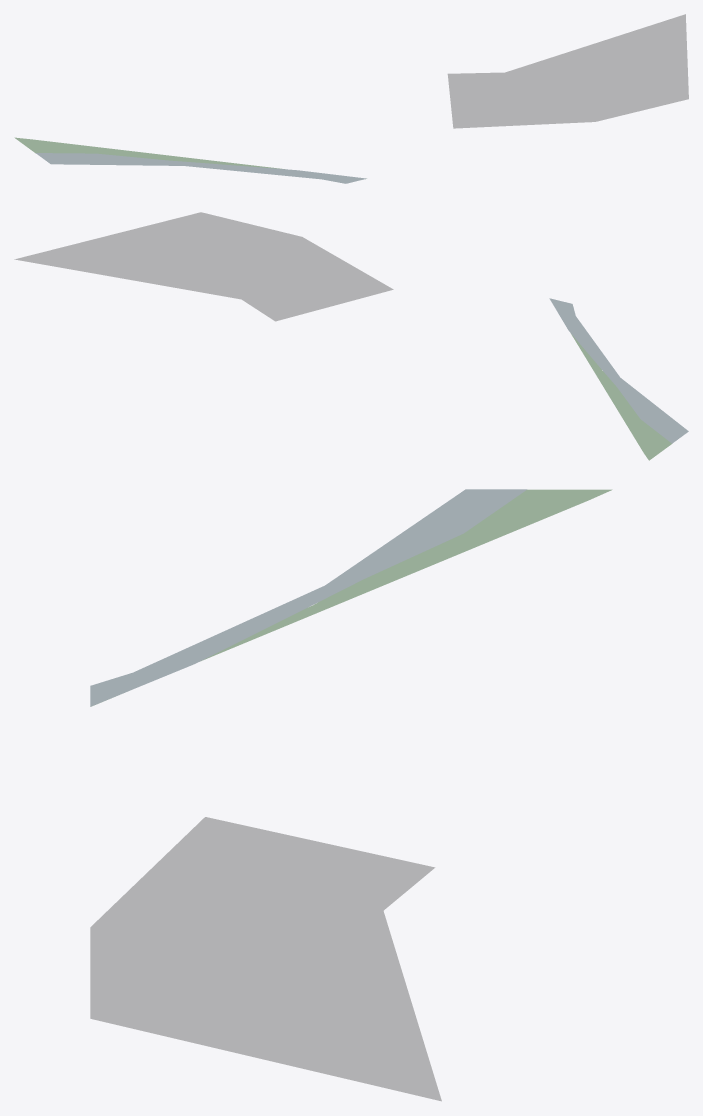
The model's file is 99_92_mid.glb.
3 views of the same model, one above another, from view 1: azimuth 30°, elevation 25°; view 2: azimuth 150°, elevation 25°; view 3: azimuth 270°, elevation 25° (orthographic). The views are drawn at different scales.
Size of the model in its own units: 420 by 0.7469 by 151.
